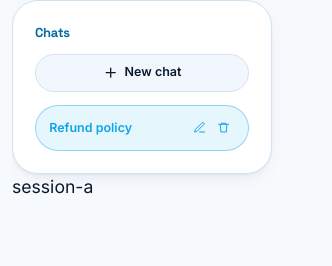
Test case: ChatSessionsPanel: delete › shows an inline confirm box on the delete icon, without deleting anything yet
expect the button "Refund policy" is shown: met, box 49,119 -> 182,137
Click the button named "Delete Refund policy".
click(224, 128)  # box 213,117 -> 235,139
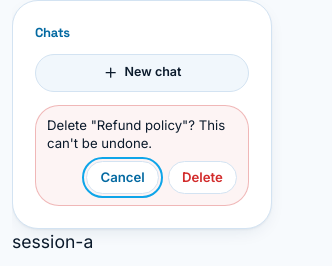
expect the message "Delete \"Refund policy\"? This can't be undone. Cancel Delete" is shown: met, box 35,105 -> 249,206
